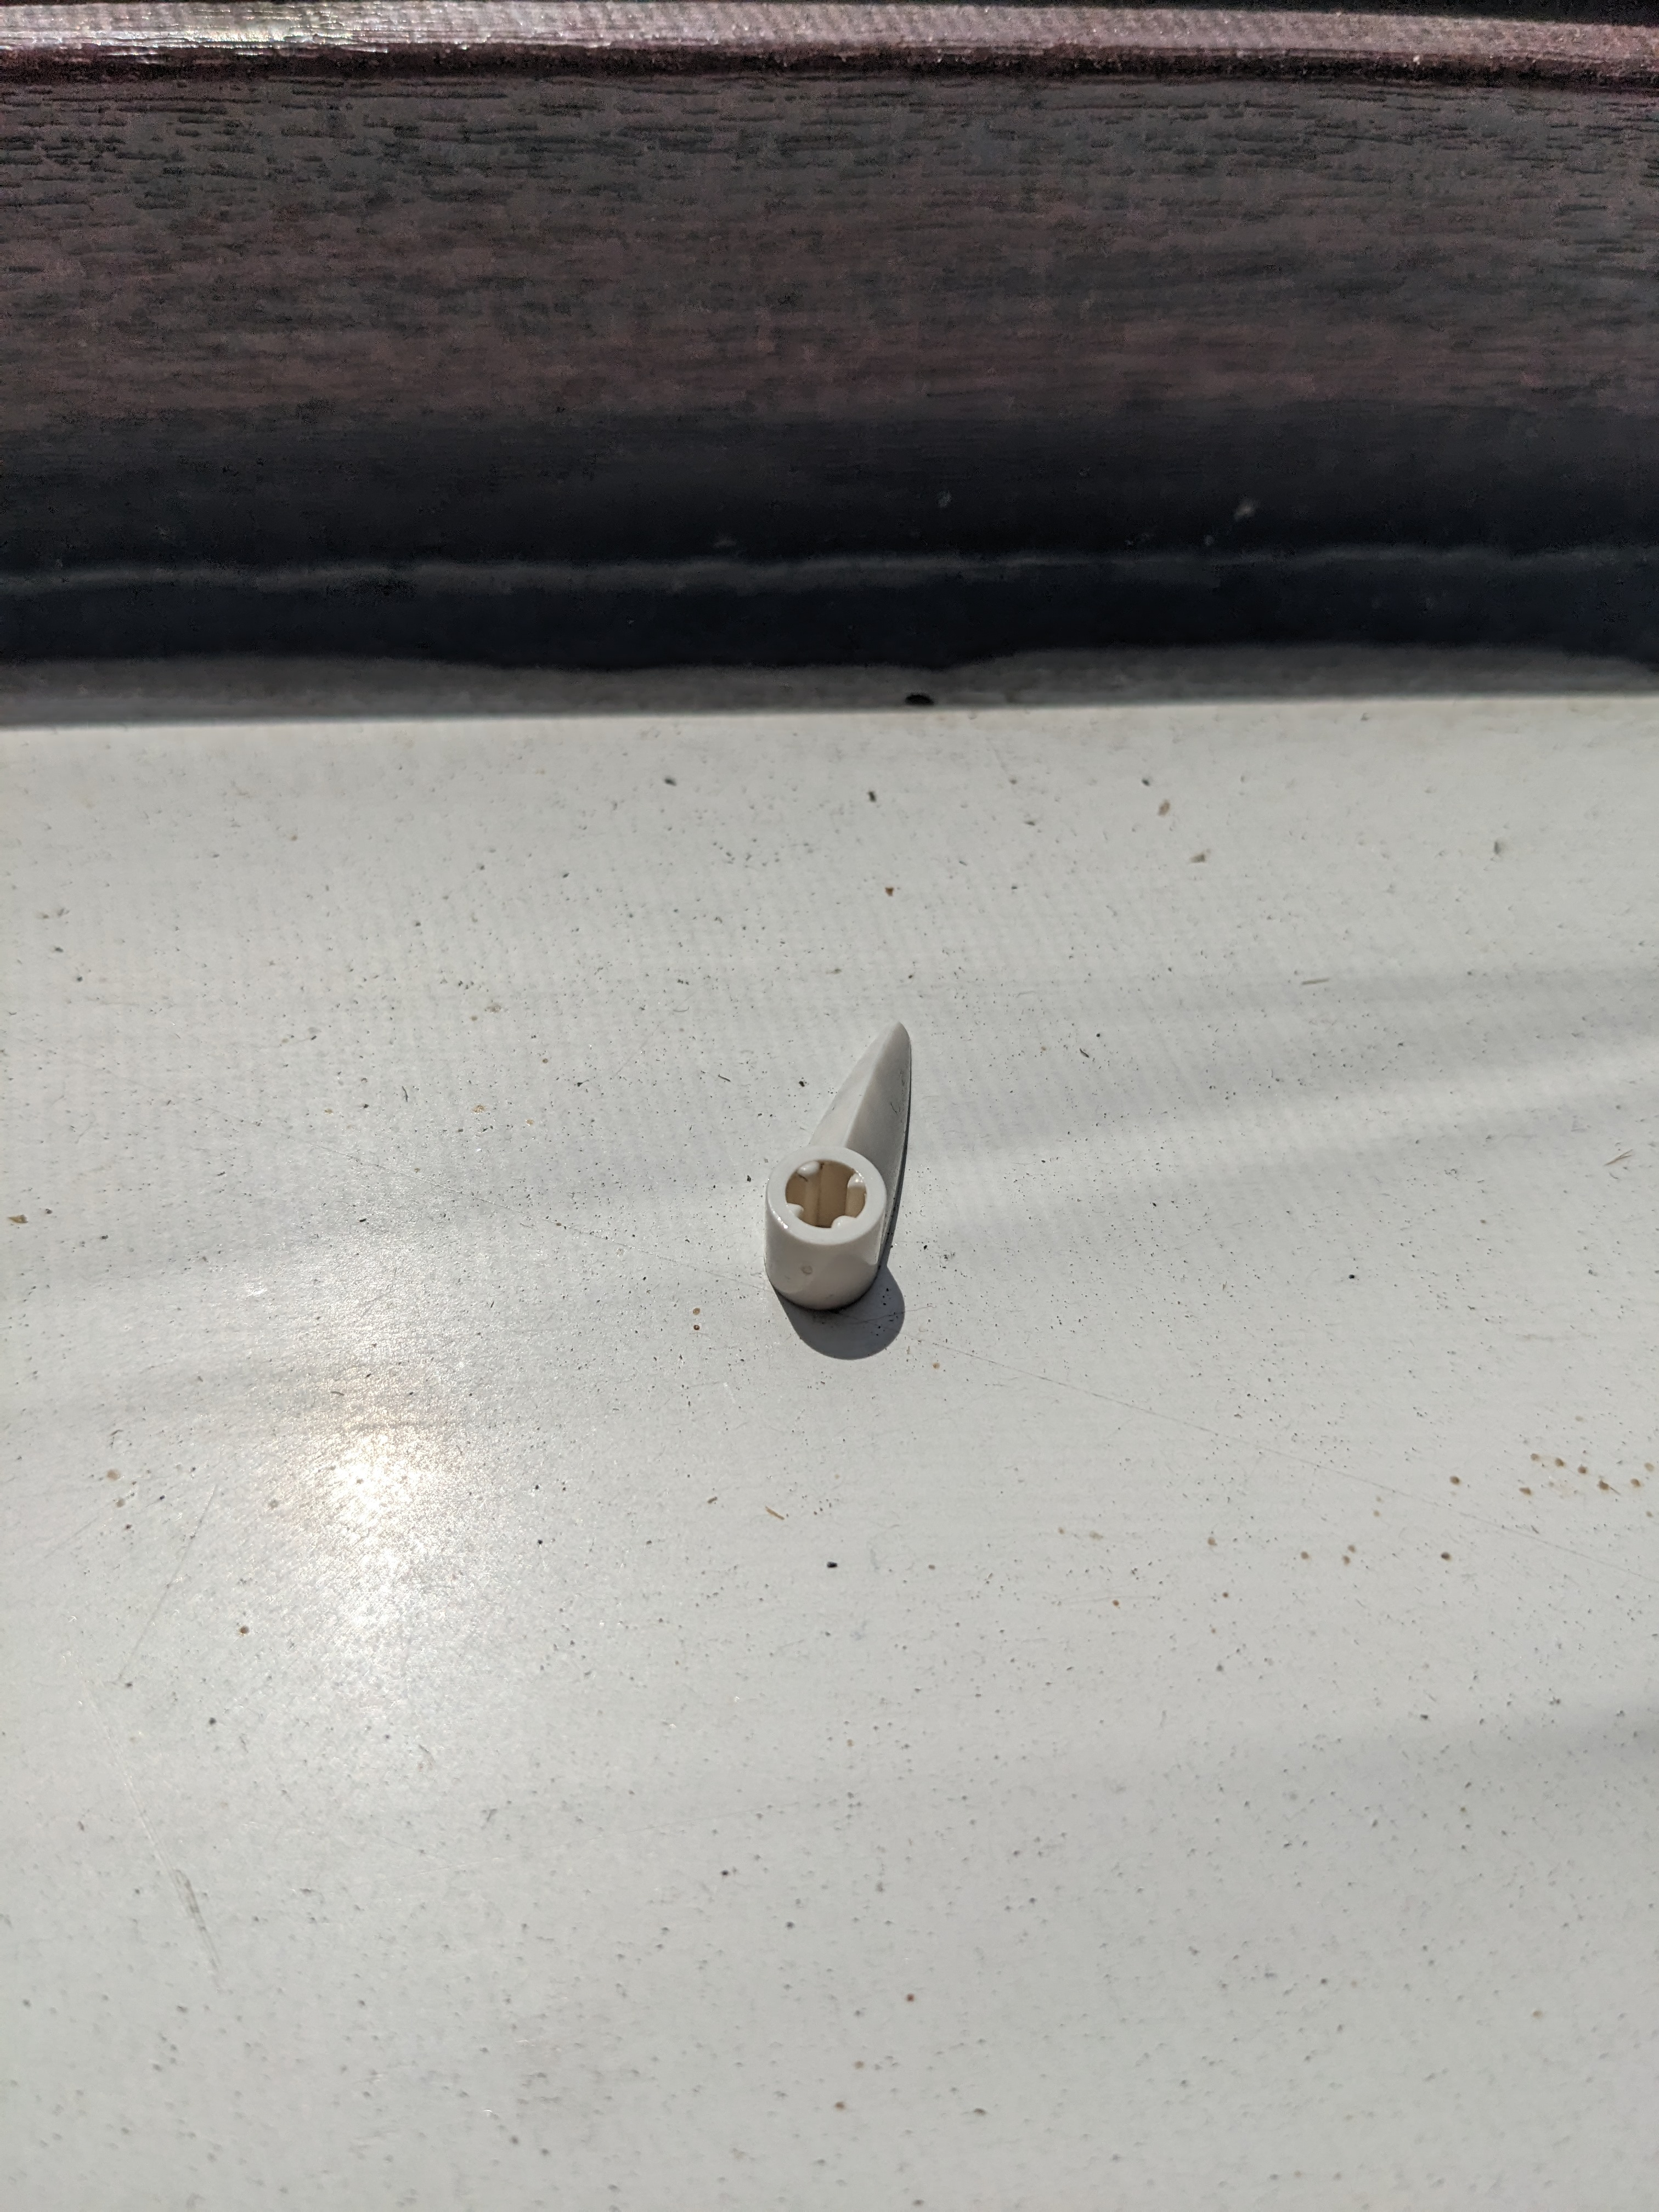Kappe: (746, 1012, 948, 1320)
